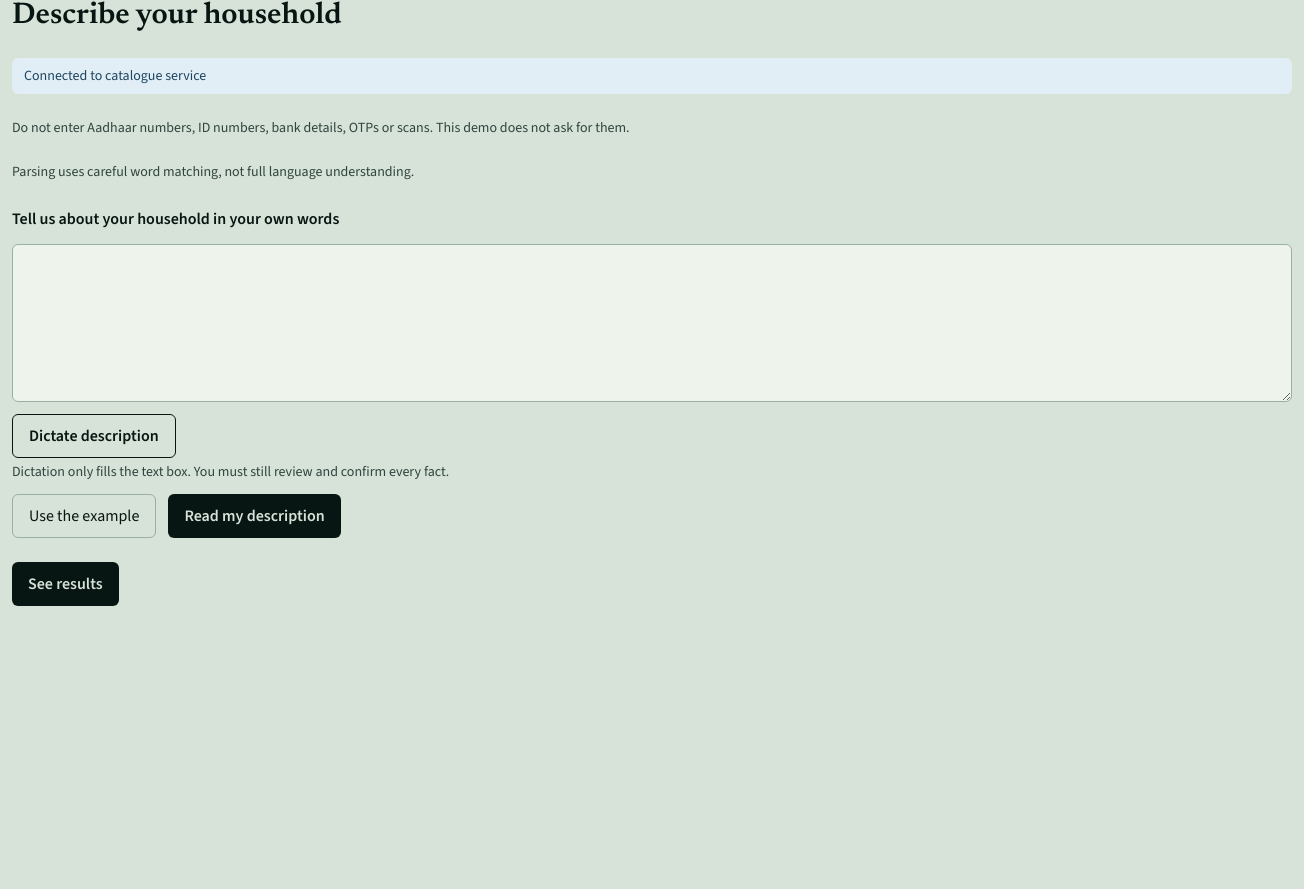
Intake › shows proposals after reading the description, and confirms nothing until Confirm is clicked
The width and height of the screenshot is (1304, 889).
Type "We are a Baiga family in Dindori; our house is kutcha, my mother does not work for the government, and I want to start keeping dairy animals." into the text box labelled "Tell us about your household in your own words" at (652, 323), box [12,244,1292,402]
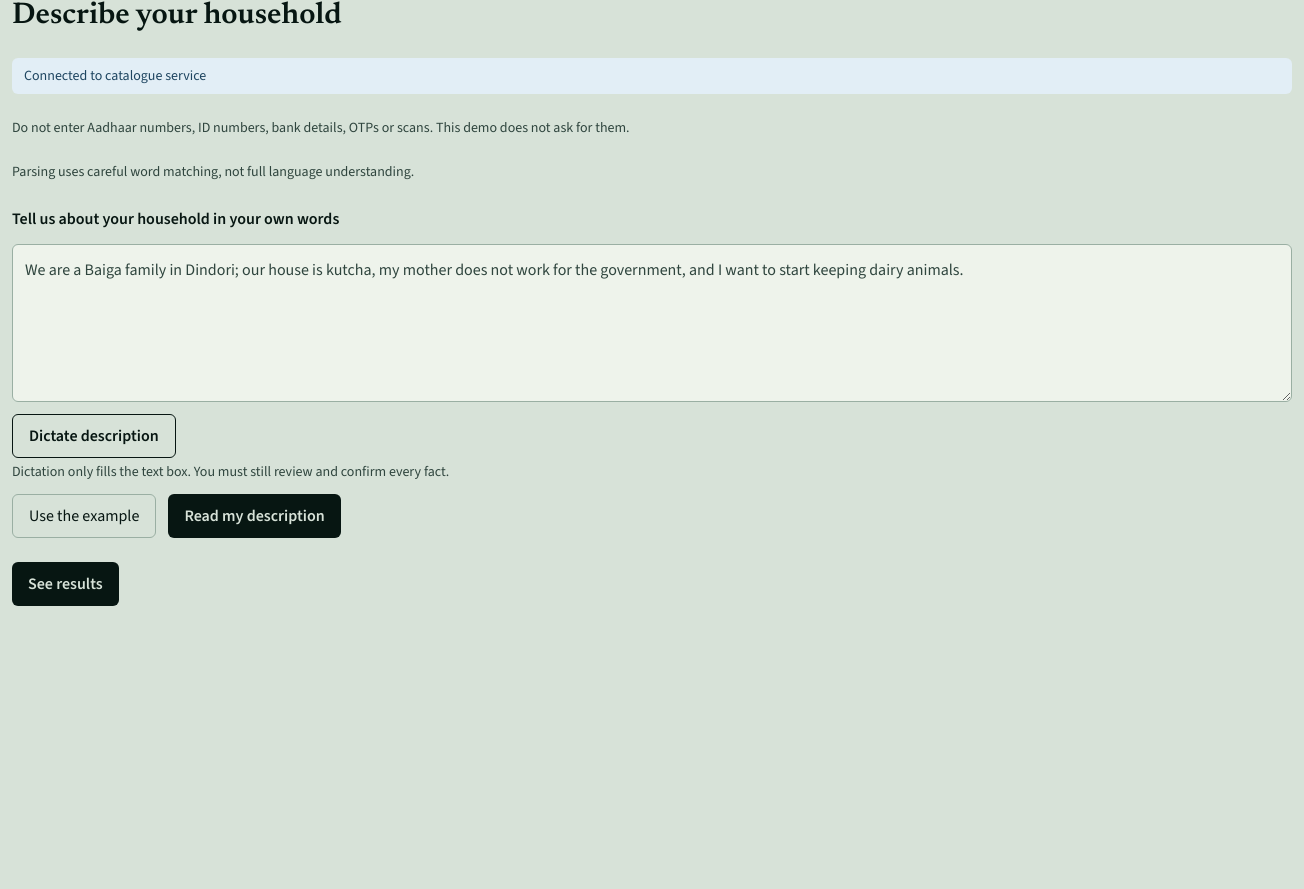
Click the button "Read my description" at (255, 516), box [168,494,341,538]
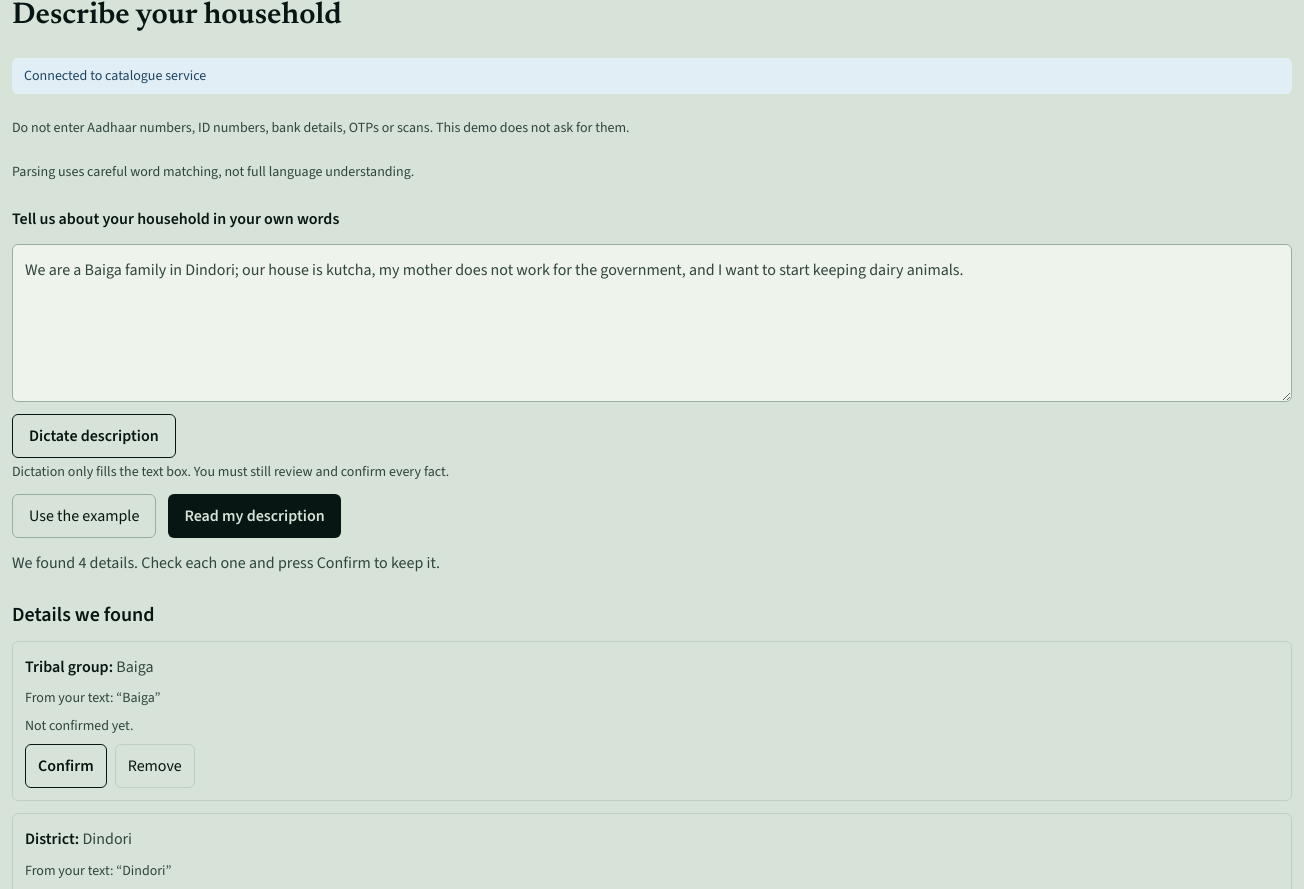
Check: the text "Confirmed details" is not shown
Check: the button "Confirm" is shown
Click the button "Confirm" at (66, 766), box [25,744,107,788]
(page scrolled)
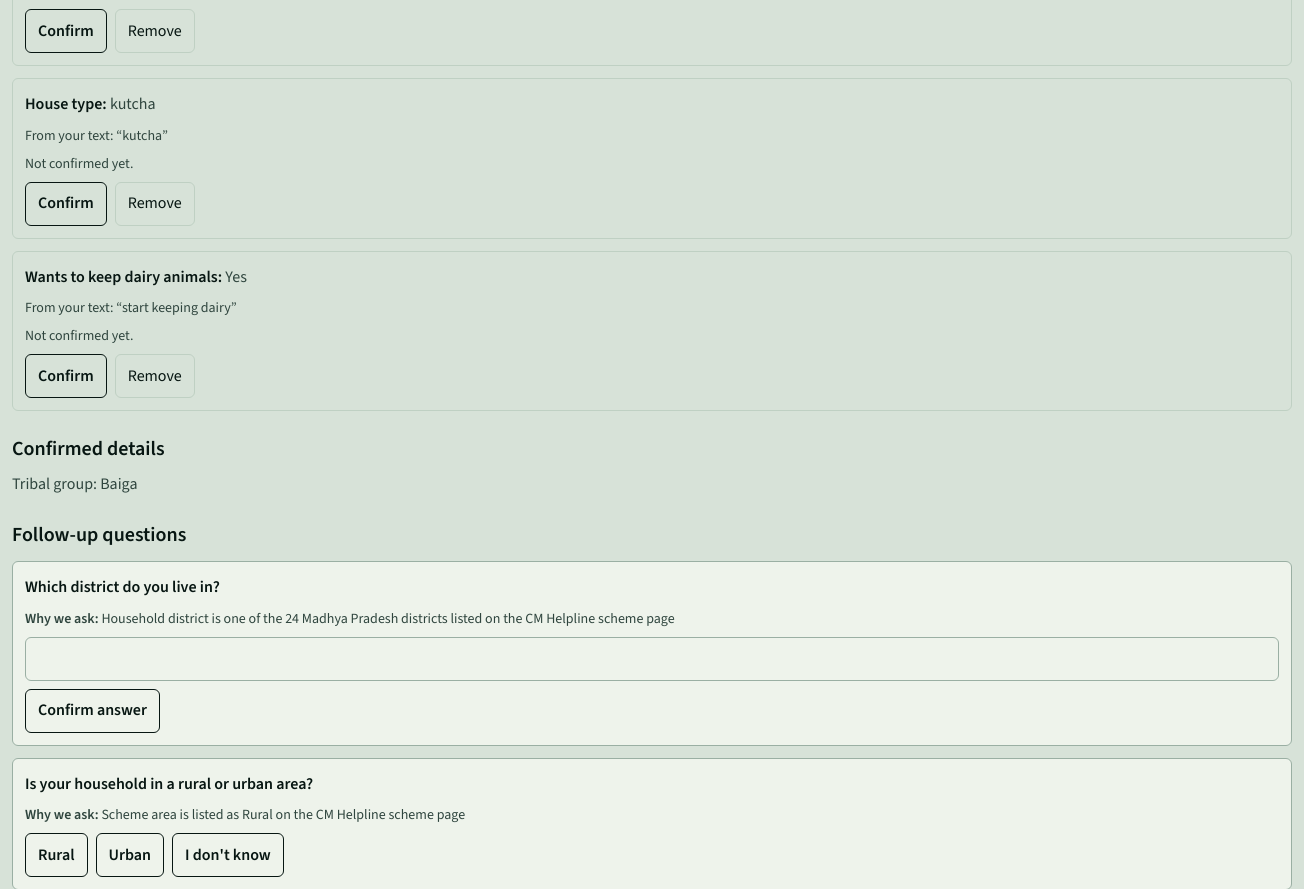
Check: the heading "Confirmed details" is shown, box [12,435,165,462]
